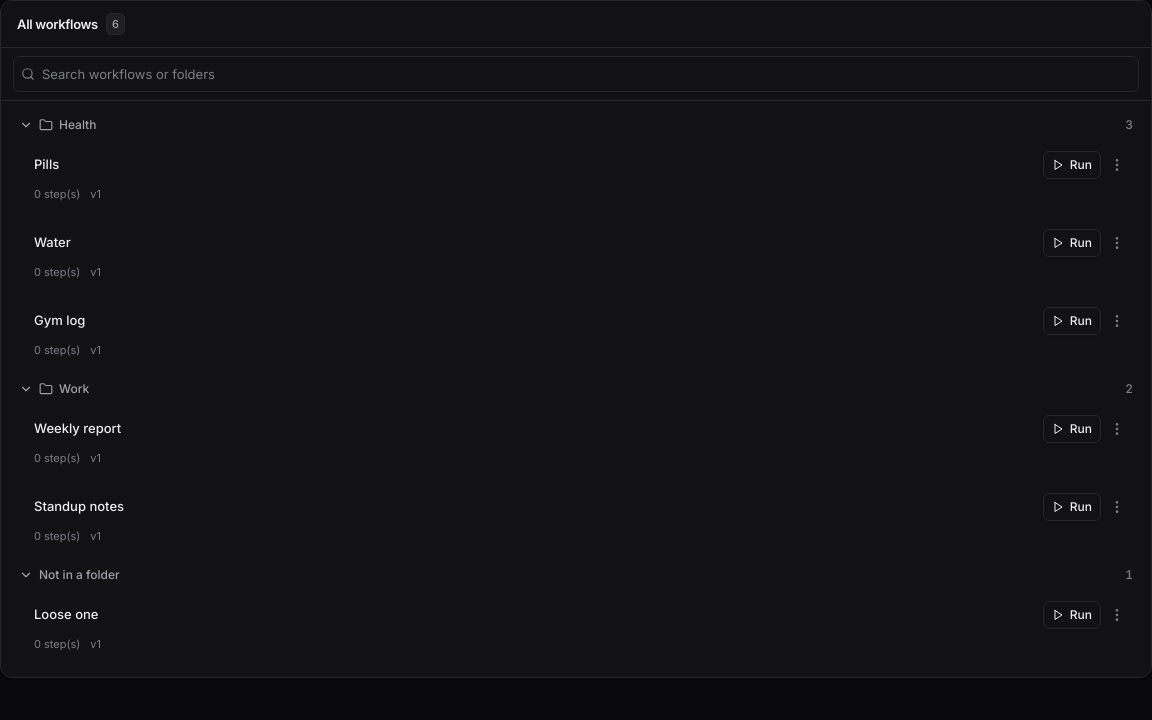
Scenario: workflows are grouped under their folders, which fold away
Expected: the button "Work 2" is shown, [13,377,1139,401]
Expected: the text "Loose one" is shown, [34,606,98,622]
Click the button "Health 3". click: click(78, 124)
box: [13,113,1139,137]
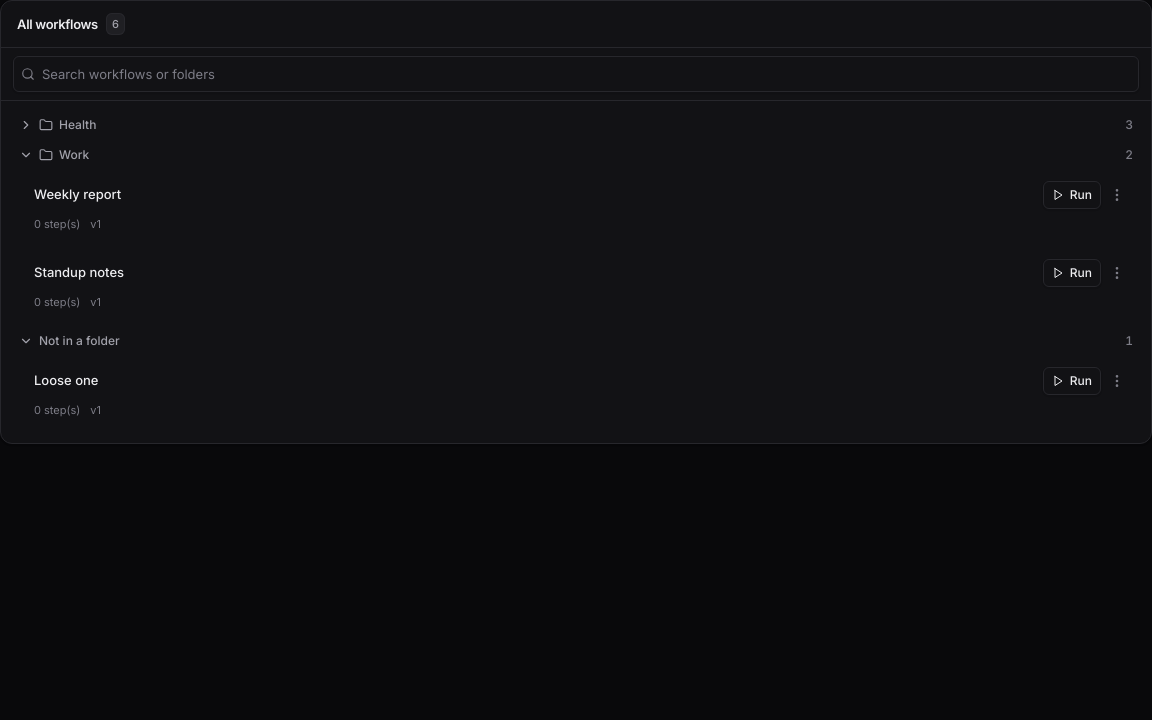
Expected: the text "Weekly report" is shown, [34,186,121,202]
Result: the button "Health 3" is collapsed at [13,113,1139,137]
Result: the text "Pills" is gone
